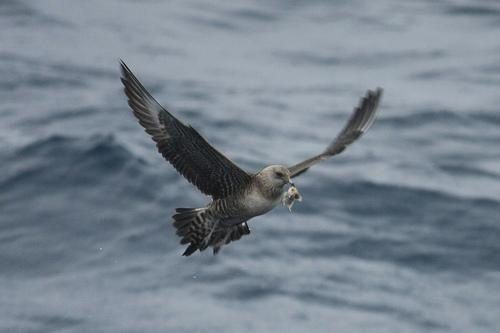bird: (108, 65, 383, 242)
